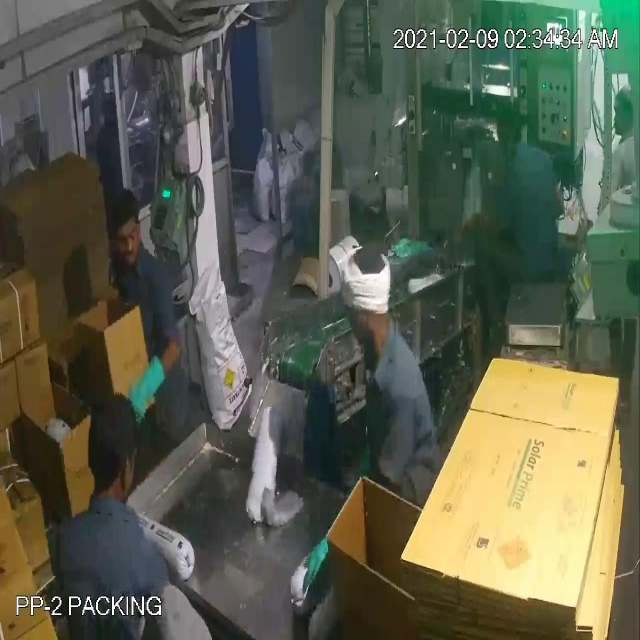Guantes: (291, 519, 351, 604), (119, 350, 176, 434)
